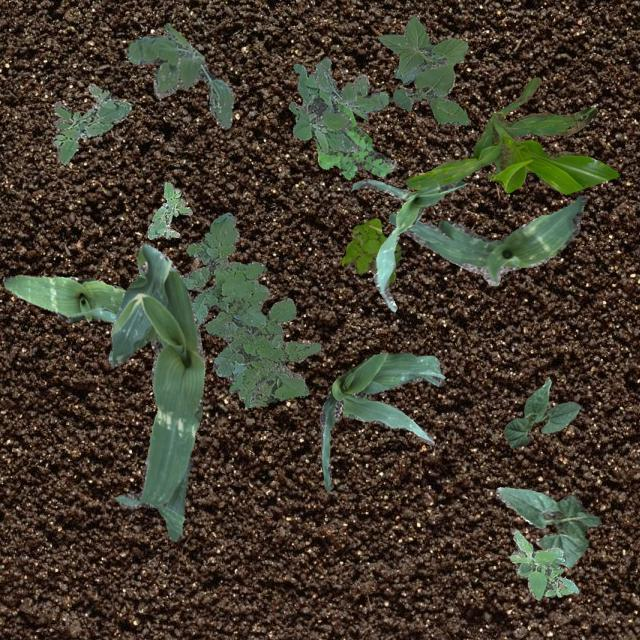crop: (108, 242, 204, 540), (404, 76, 618, 194), (318, 350, 444, 492), (388, 194, 586, 284), (350, 178, 466, 310), (494, 486, 600, 568), (1, 274, 126, 322), (502, 378, 580, 446)
weed: (180, 212, 320, 406), (125, 22, 234, 128), (377, 13, 468, 124), (288, 56, 360, 152), (51, 82, 130, 164), (314, 101, 396, 178), (508, 528, 578, 598), (314, 62, 388, 120), (340, 218, 400, 286), (146, 180, 192, 238)
